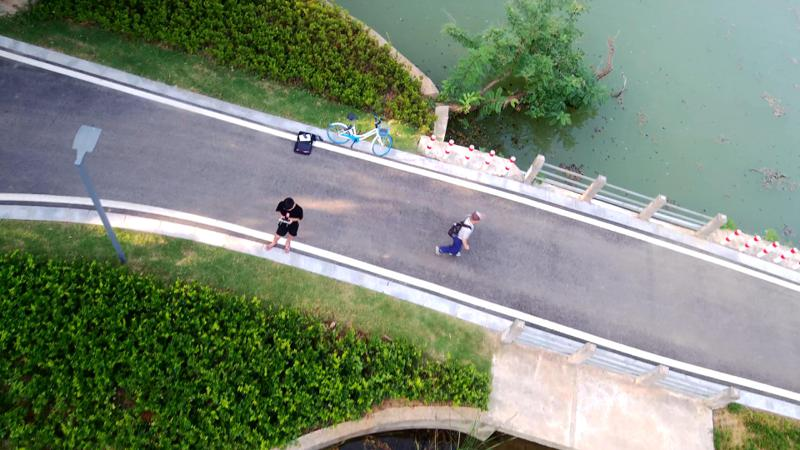passerby: (432, 208, 485, 257), (263, 194, 305, 255)
